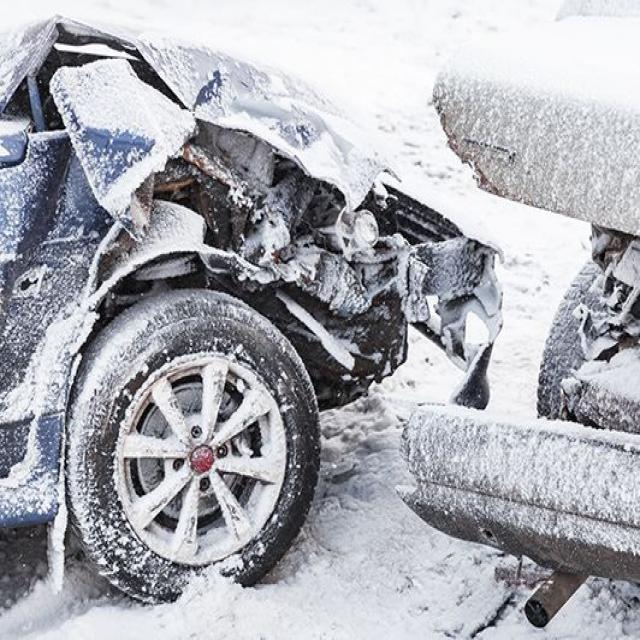Accident: (3, 2, 510, 604)
